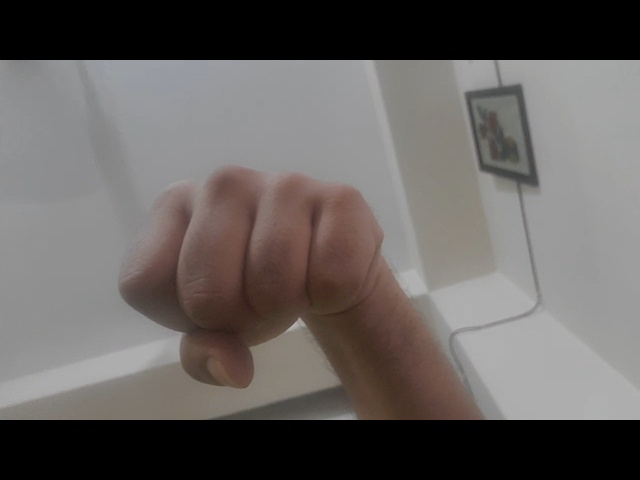Yes: (106, 159, 414, 400)
